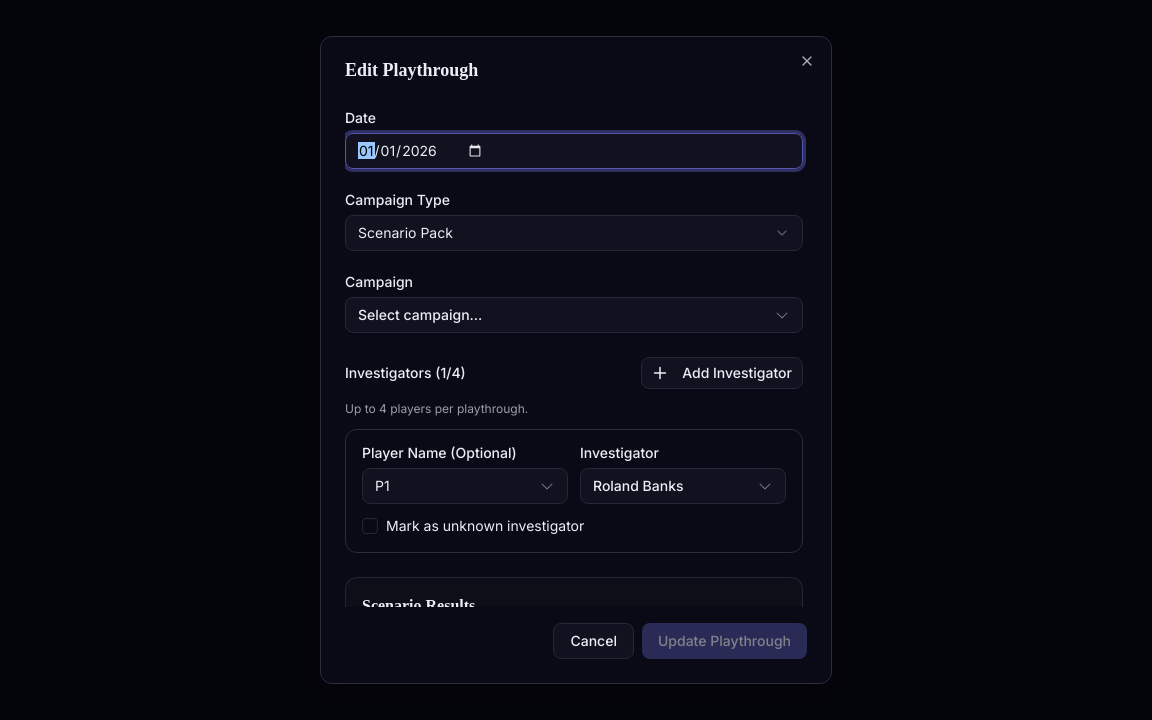
it: PlaythroughForm — Traces To Nowhere (chapter 2 scenario) › appears in the Scenario Pack campaign combobox
Note: The campaign picker button shows "Select campaign..." when nothing selected
Click the dropdown "Select campaign...". click: (420, 314)
box: [345,297,803,333]
(page scrolled)
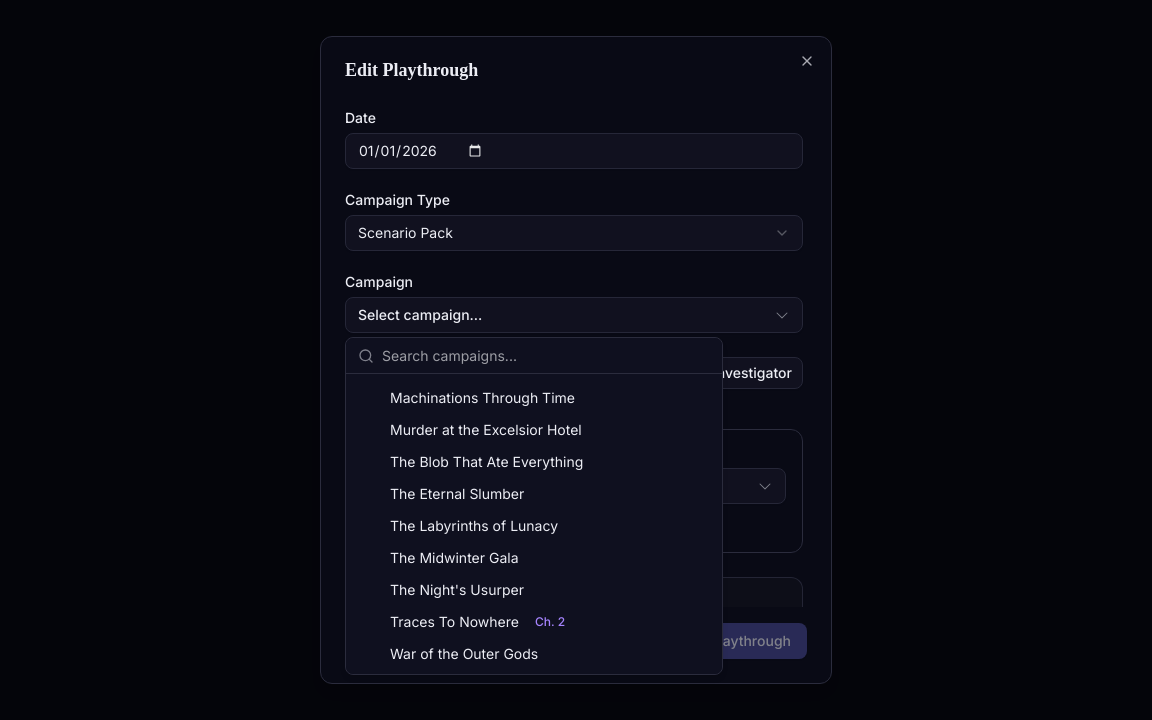
Expected: the option "Traces To Nowhere Ch. 2" is shown, [390,613,565,630]
